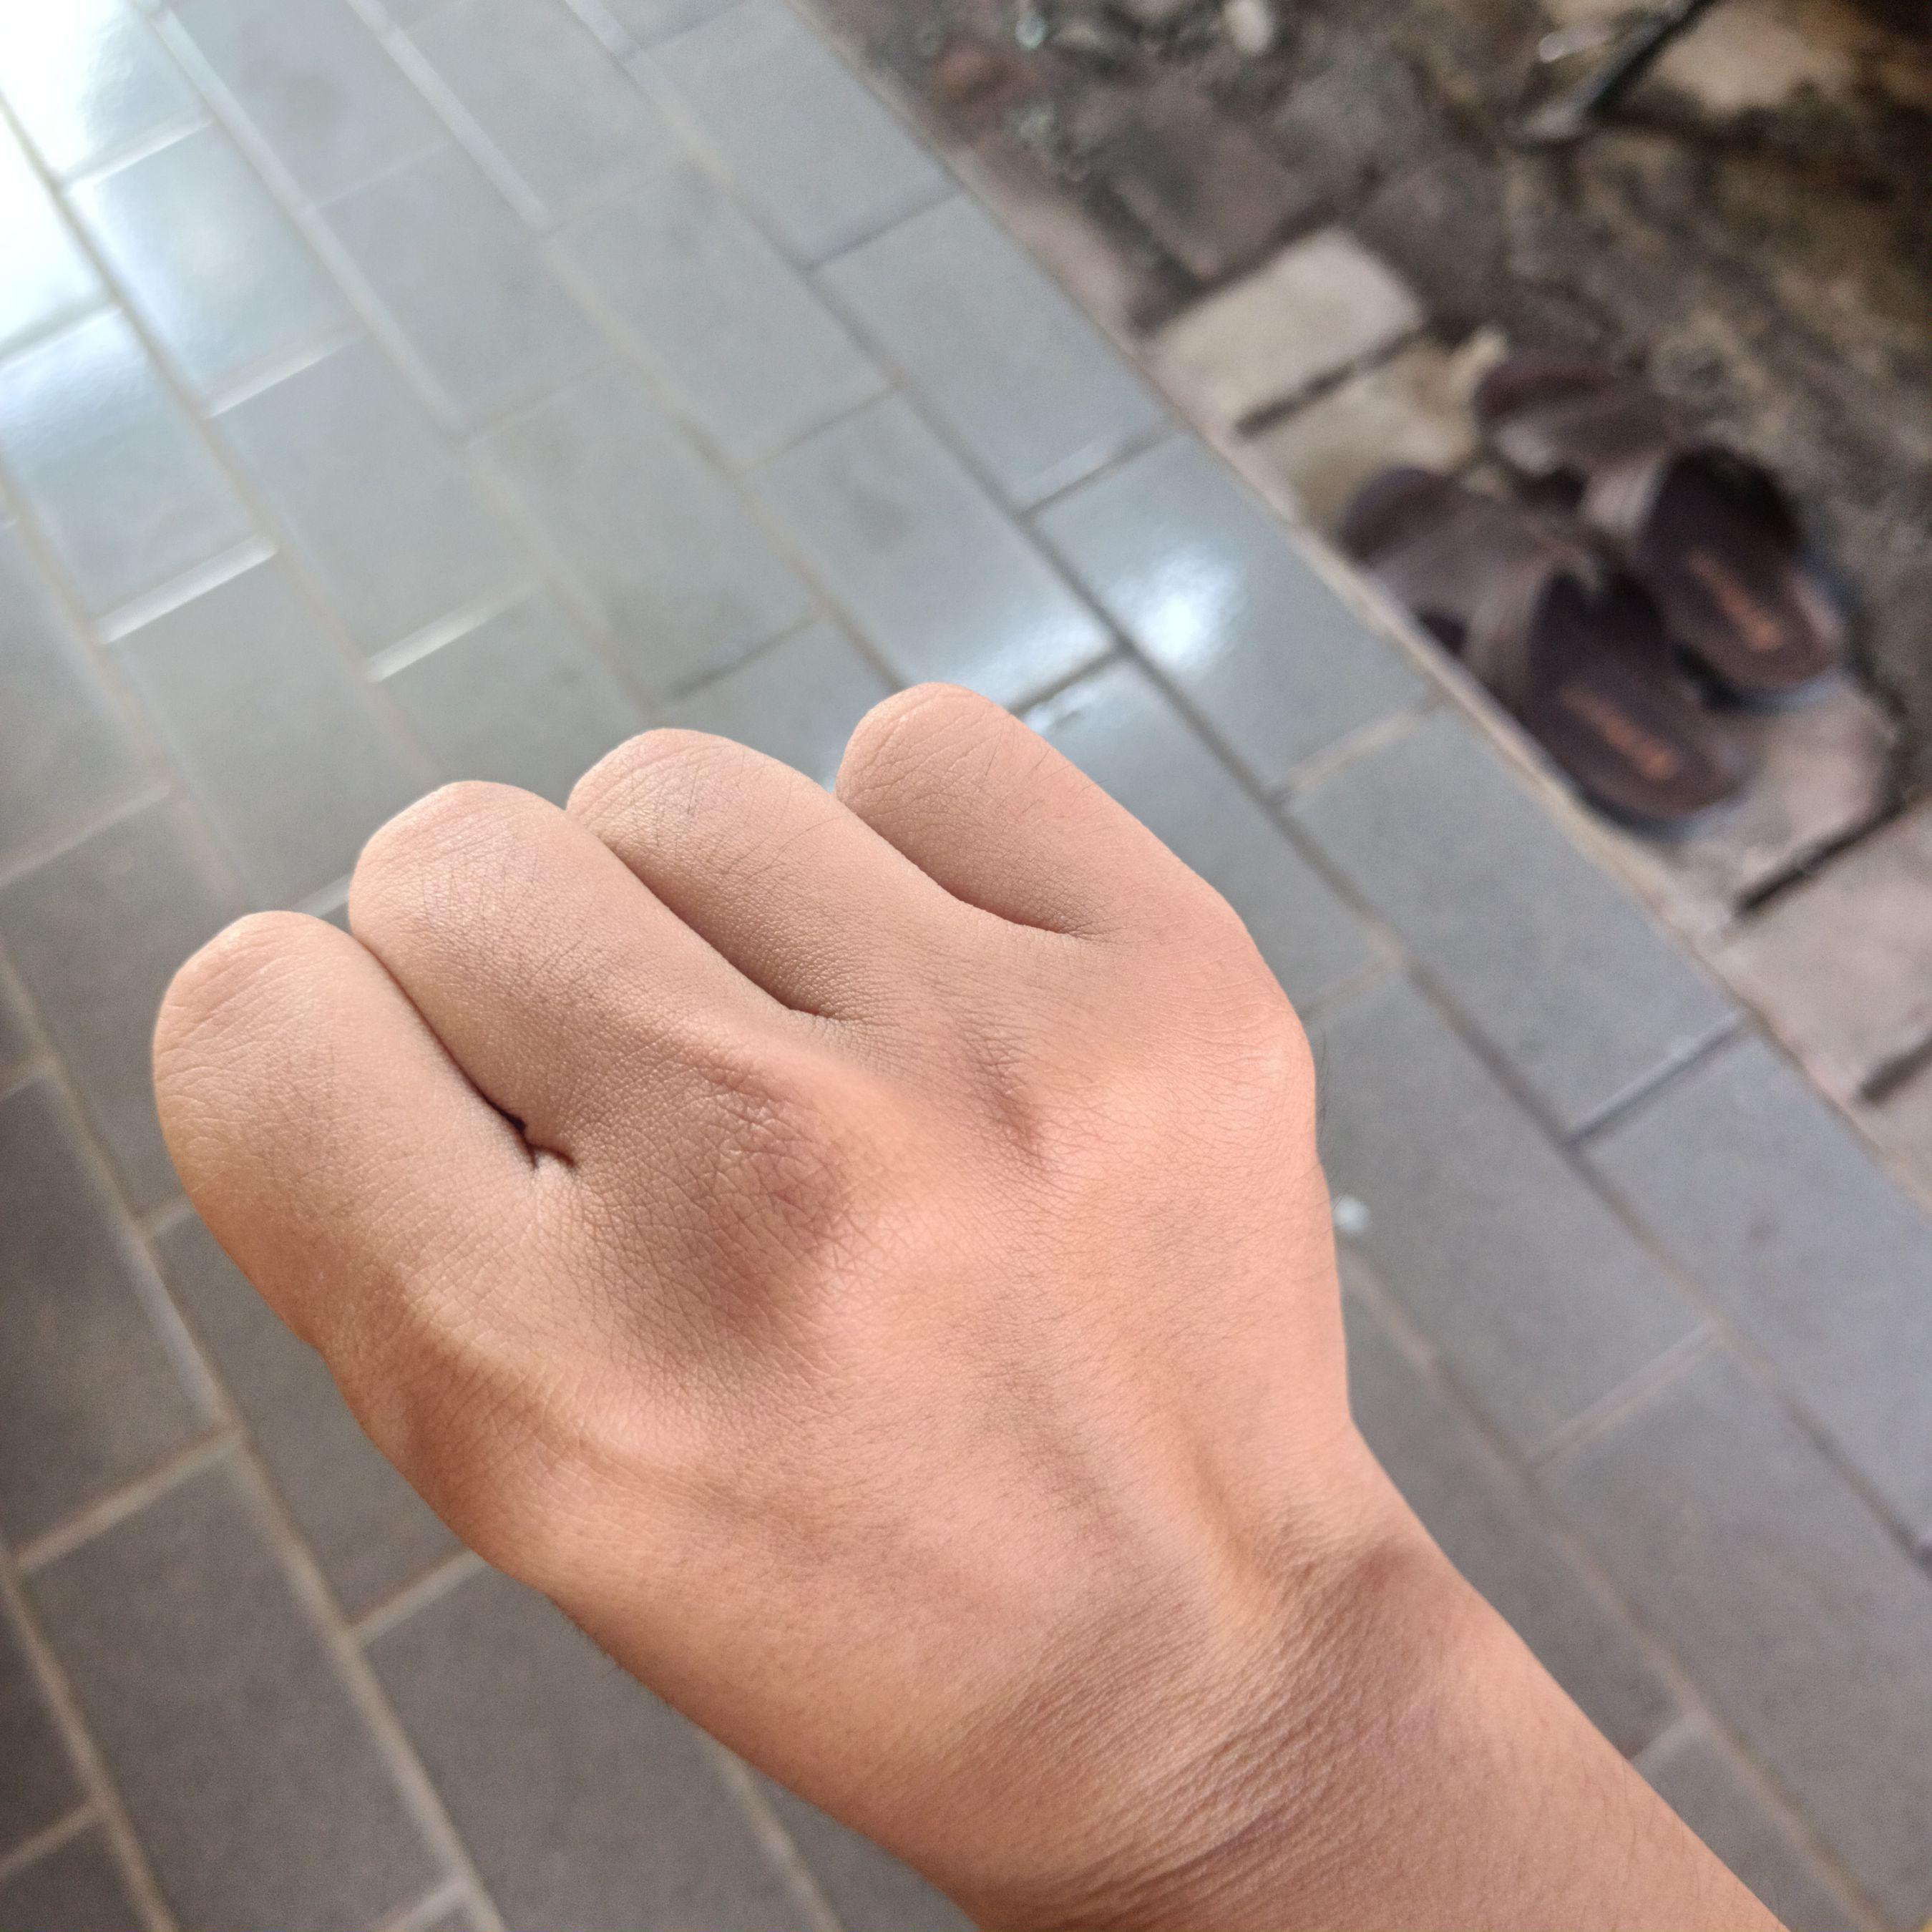rock: (113, 649, 1401, 1904)
